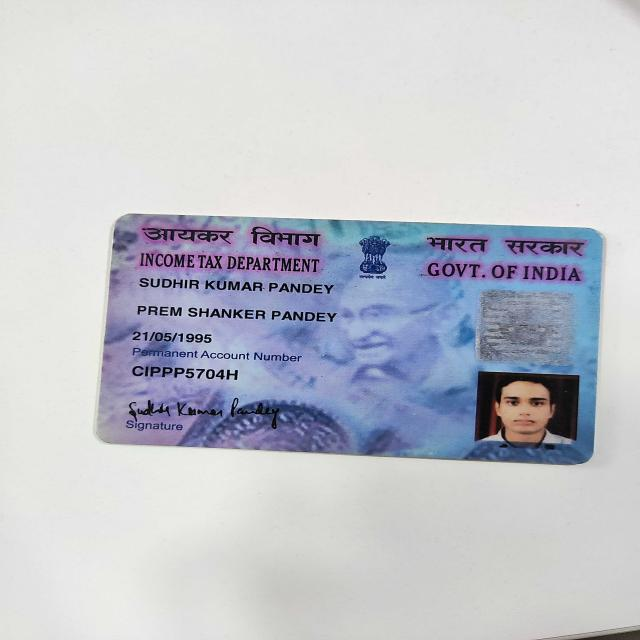pan_card: (97, 217, 598, 462)
